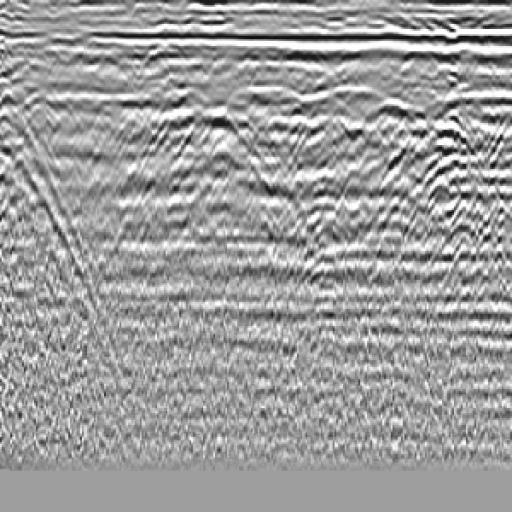metalic: (135, 73, 272, 153)
